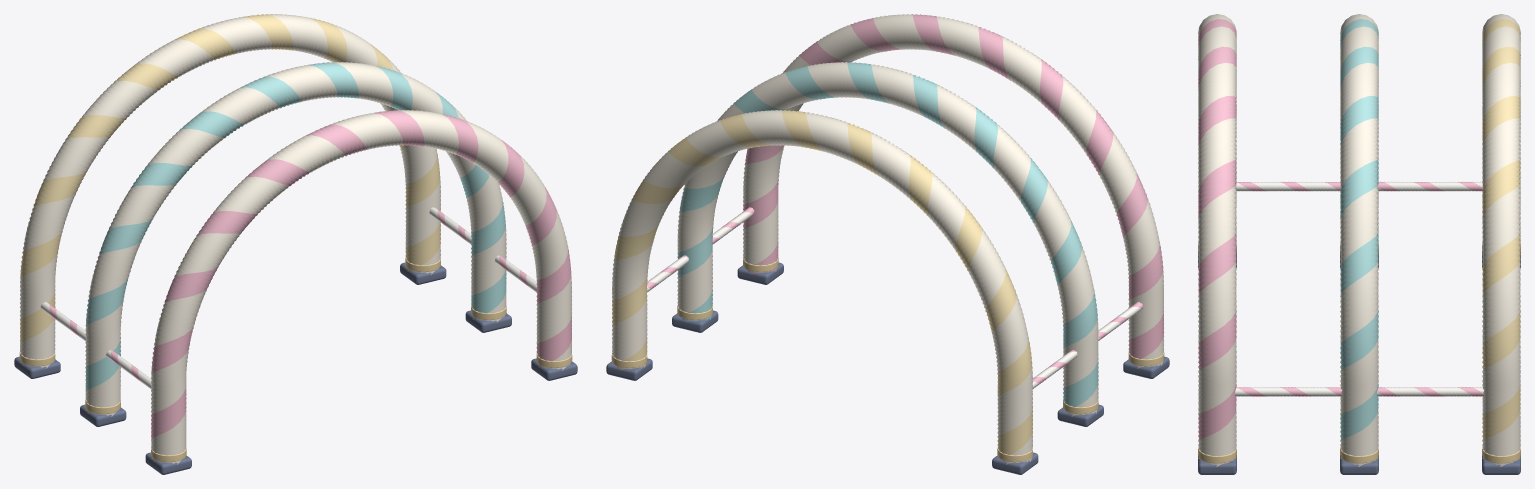
Rendered from CandyTunnel.fbx.
3 renders of one model, left to right at view 1: azimuth 30°, elevation 25°; view 2: azimuth 150°, elevation 25°; view 3: azimuth 270°, elevation 25°, orthographic. The views are drawn at different scales.
Visible parts, largest first — view 1: SpiralArch1, SpiralArch2, SpiralArch3, SideStringLeft, SideStringRight; view 2: SpiralArch3, SpiralArch2, SpiralArch1, SideStringLeft, SideStringRight; view 3: SpiralArch1, SpiralArch3, SpiralArch2, SideStringRight, SideStringLeft, Foot1Right, Foot2Right, Foot3Right.
Boxes of the visible parts, x1,y1,x2,y2 form: SpiralArch1: (151,110,571,464); SpiralArch2: (85,62,506,416); SpiralArch3: (20,14,440,368); SideStringLeft: (40,302,151,388); SideStringRight: (429,207,537,292); SpiralArch3: (612,110,1032,464); SpiralArch2: (677,62,1098,416); SpiralArch1: (743,14,1164,368); SideStringLeft: (1032,302,1143,388); SideStringRight: (647,207,754,291); SpiralArch1: (1198,14,1236,466); SpiralArch3: (1482,14,1520,466); SpiralArch2: (1340,14,1378,466); SideStringRight: (1234,387,1484,396); SideStringLeft: (1236,181,1482,191); Foot1Right: (1198,455,1236,474); Foot2Right: (1340,455,1378,474); Foot3Right: (1482,455,1520,474).
Bounding box in the file's own units: 1292 × 896 × 800.
